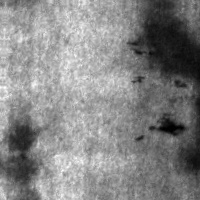patches: (127, 6, 199, 174), (0, 122, 46, 199)
